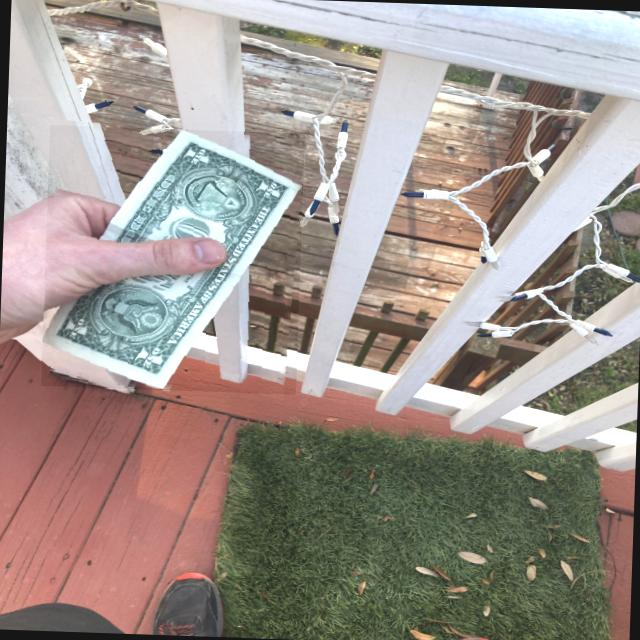one: (35, 108, 303, 412)
